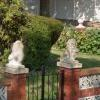Statue: (8, 36, 32, 80)
